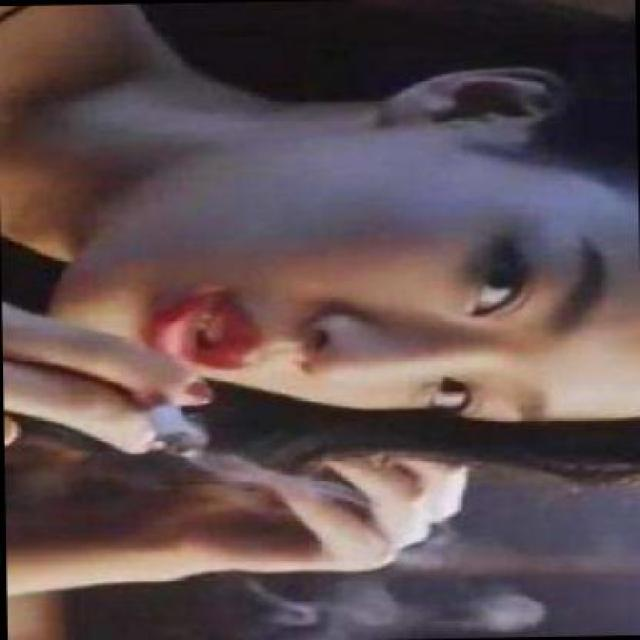smoke: (141, 390, 201, 459)
